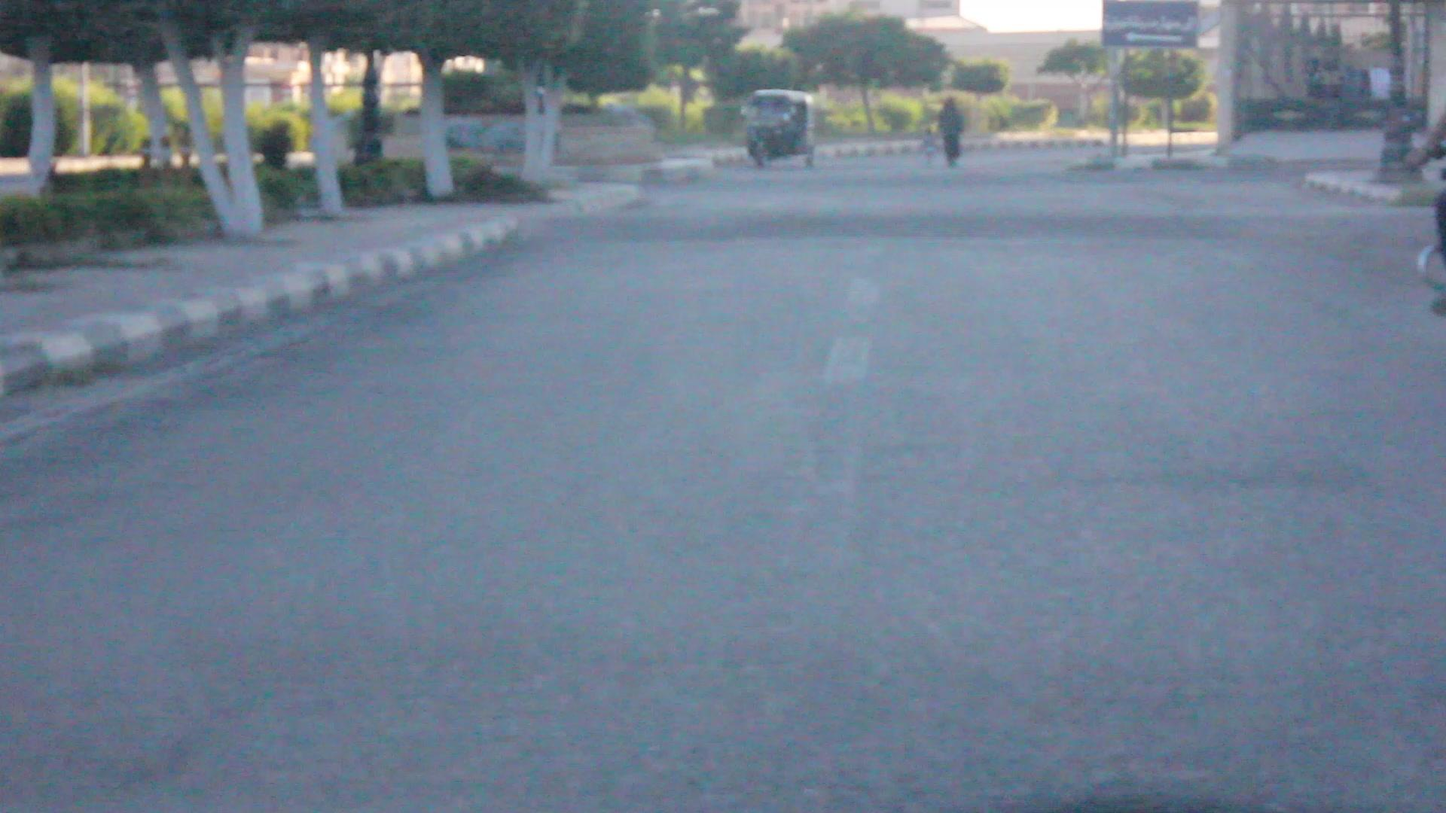Bump: (533, 203, 1397, 248)
